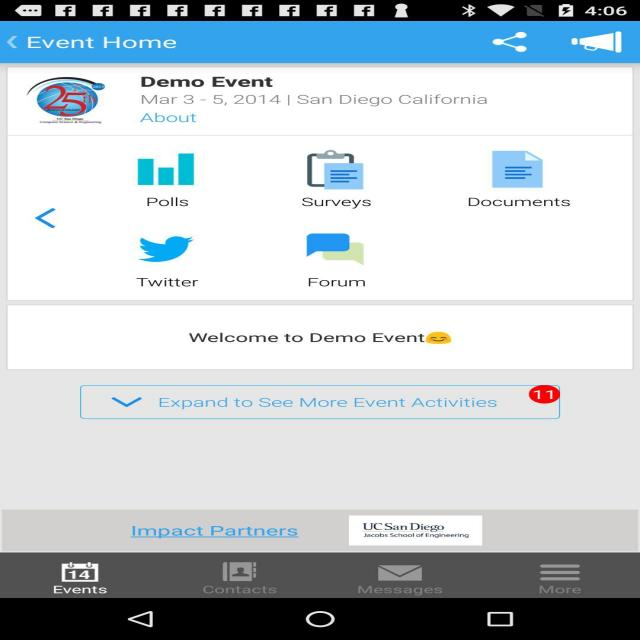button: (49, 369, 596, 446), (72, 501, 322, 551)
icon: (120, 156, 582, 198), (115, 227, 417, 271), (21, 201, 66, 246), (559, 30, 636, 56), (203, 558, 276, 582), (480, 29, 540, 56), (528, 559, 596, 582), (52, 560, 115, 584), (367, 562, 421, 584), (112, 393, 148, 413), (2, 33, 28, 56)
image: (182, 325, 492, 356), (336, 510, 495, 551), (28, 75, 110, 131), (517, 381, 567, 406)
text: (138, 73, 508, 128), (155, 390, 502, 415), (40, 586, 606, 600), (120, 520, 304, 546), (32, 33, 205, 56), (304, 271, 381, 293), (295, 195, 394, 209), (466, 197, 586, 208), (145, 191, 198, 208), (134, 276, 197, 290)
